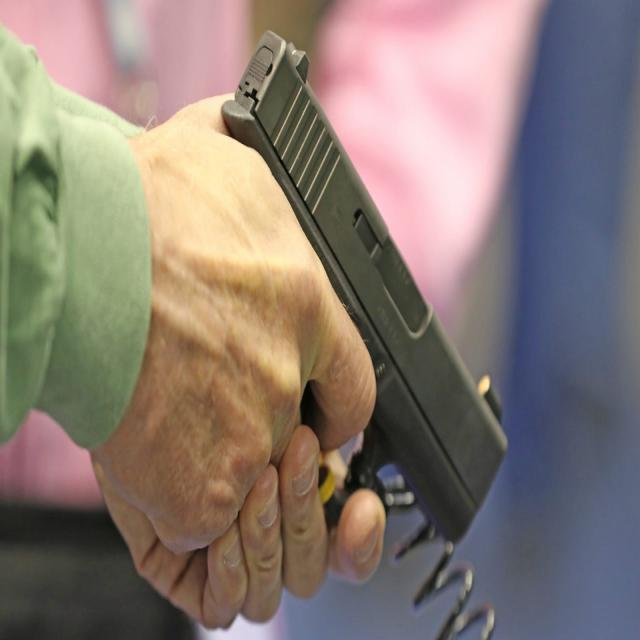HandGun: (218, 31, 506, 548)
